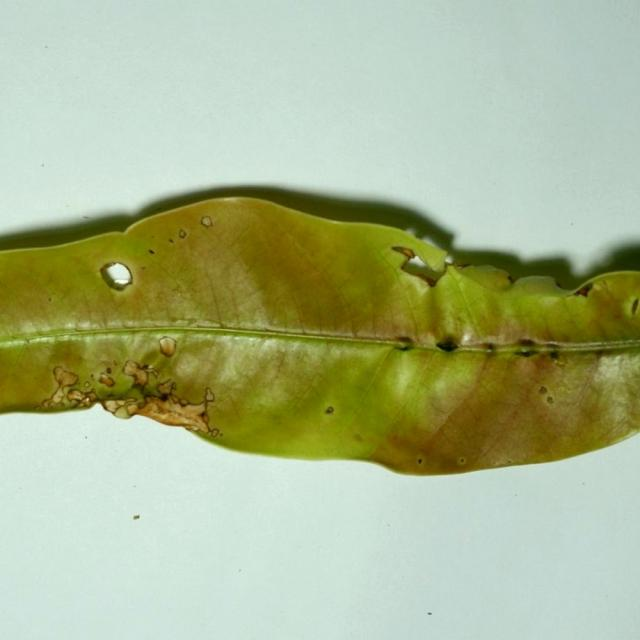Anthracnose: (120, 215, 219, 293), (127, 385, 221, 436), (96, 251, 152, 305), (36, 364, 86, 409), (164, 216, 218, 252), (391, 245, 439, 285), (122, 355, 154, 396), (537, 369, 573, 404), (106, 382, 150, 409), (121, 359, 159, 390), (99, 261, 133, 291), (510, 275, 563, 294), (100, 398, 140, 417), (52, 366, 80, 389), (140, 381, 165, 401), (391, 245, 416, 262), (457, 329, 482, 346), (158, 336, 177, 357), (423, 233, 444, 251), (165, 228, 187, 245), (435, 338, 460, 352), (156, 379, 175, 396), (538, 386, 555, 405), (396, 336, 417, 350), (39, 396, 61, 409), (590, 279, 607, 295), (98, 373, 115, 387), (551, 352, 567, 366), (449, 259, 471, 269), (518, 348, 539, 358), (575, 285, 592, 297), (518, 338, 537, 348), (204, 387, 215, 402), (200, 216, 213, 228), (147, 365, 159, 377), (405, 227, 417, 239), (443, 255, 455, 266), (484, 343, 497, 353), (548, 350, 560, 360), (352, 433, 363, 442), (595, 349, 606, 357), (178, 229, 187, 238), (635, 298, 640, 314), (457, 457, 467, 465), (103, 262, 113, 270), (325, 406, 334, 414), (538, 386, 547, 394), (507, 275, 516, 283), (144, 364, 154, 371), (180, 399, 189, 406), (107, 393, 116, 398), (106, 367, 112, 374), (25, 338, 32, 344), (417, 458, 423, 464), (148, 249, 155, 254), (133, 515, 140, 520), (168, 238, 174, 243), (90, 374, 95, 380), (506, 460, 512, 465), (82, 216, 91, 219), (113, 360, 118, 365), (48, 297, 52, 302), (427, 612, 432, 615), (85, 435, 88, 439), (238, 569, 241, 573)
Mango: (0, 187, 639, 480)
